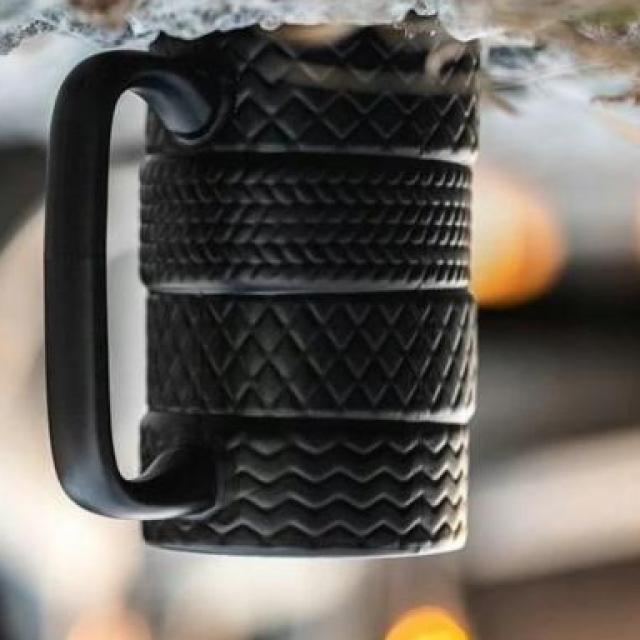cup: (40, 27, 485, 565)
